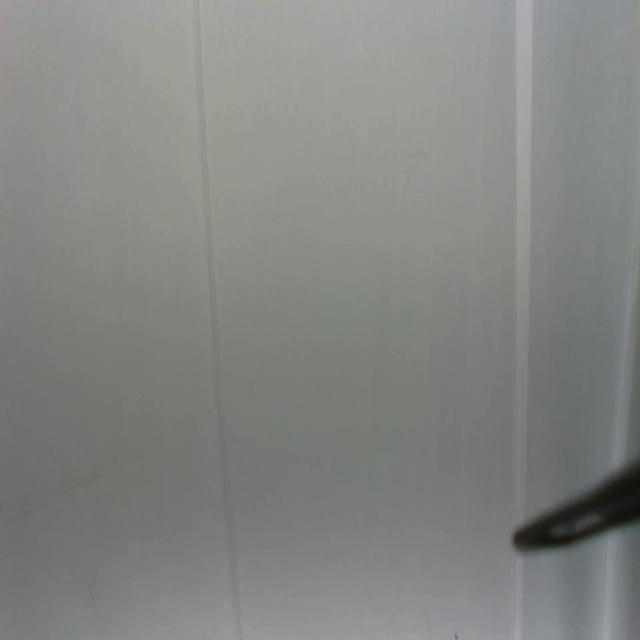crease: (192, 0, 240, 640), (511, 0, 535, 515), (611, 236, 640, 461), (597, 532, 616, 636), (510, 556, 526, 640)
hole: (452, 630, 460, 640)
